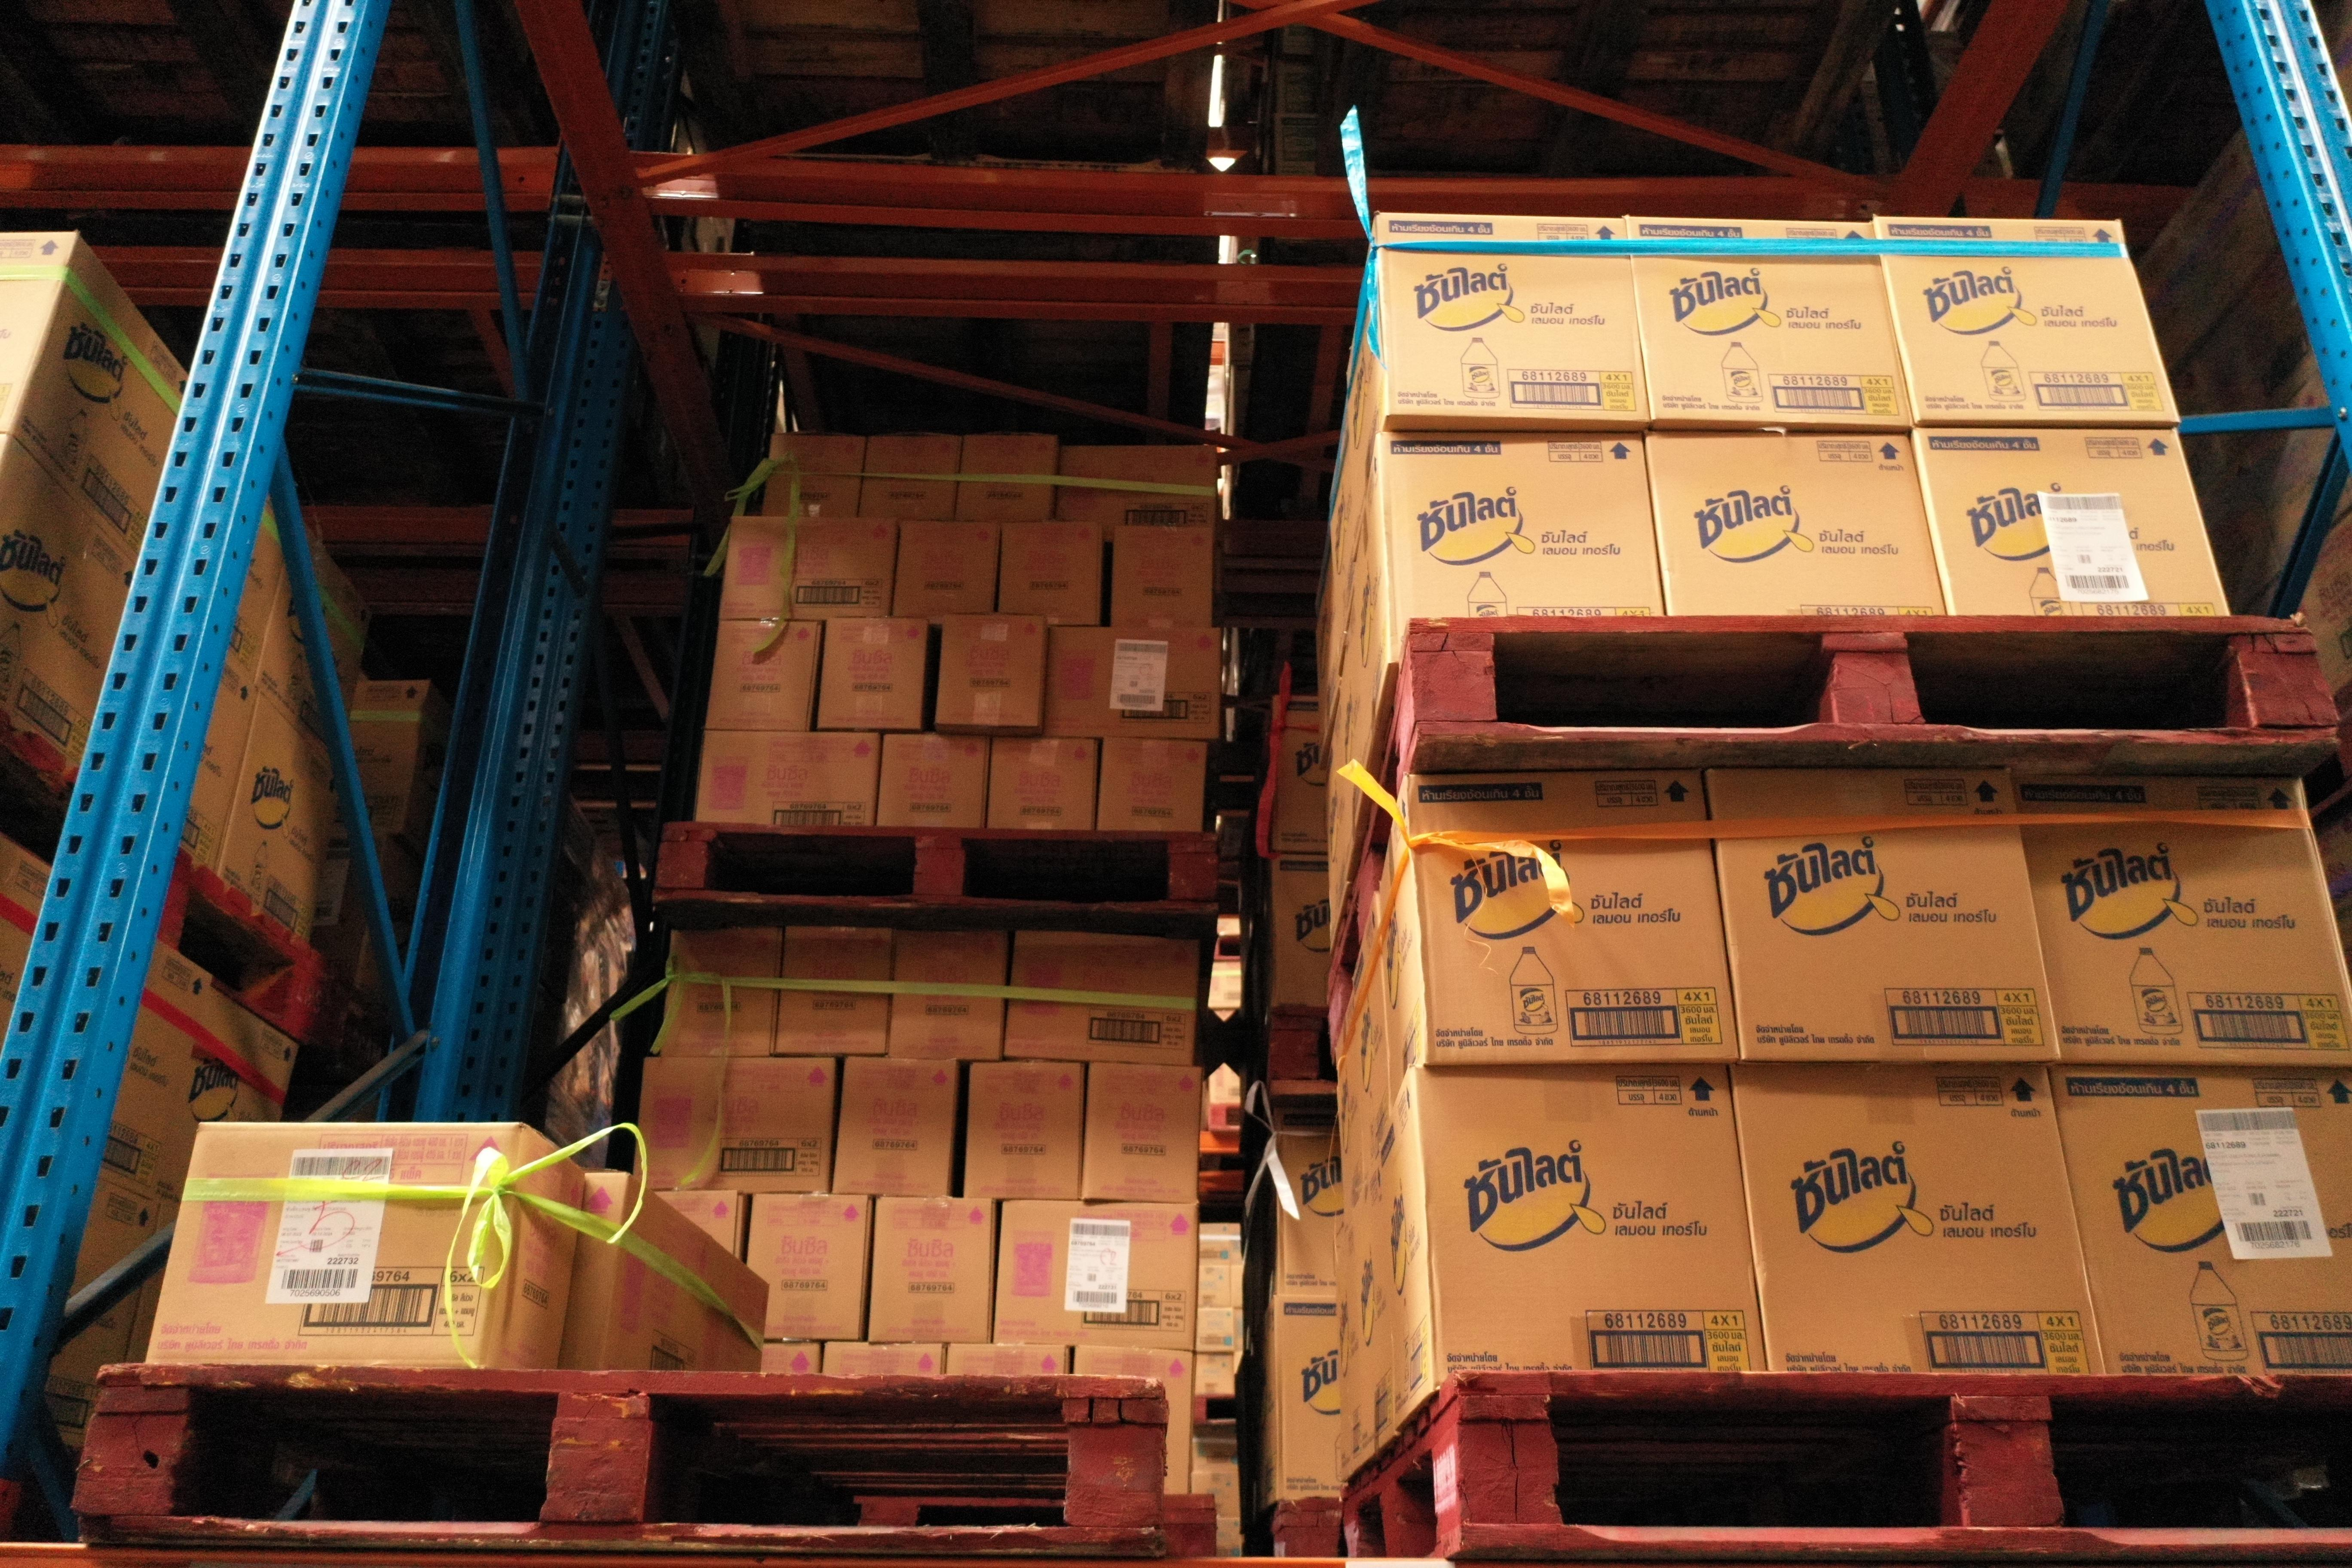-: (1725, 1059, 2110, 1377), (1414, 1064, 1771, 1391), (1699, 765, 2058, 1057), (1403, 766, 1743, 1073), (2014, 773, 2352, 1066), (2044, 1064, 2352, 1379), (147, 1120, 521, 1374), (1386, 425, 1666, 658), (1874, 215, 2180, 423), (1624, 213, 1913, 427), (1911, 423, 2233, 614), (1377, 210, 1650, 423), (1643, 427, 1949, 614)
box: (992, 1199, 1197, 1358), (633, 1055, 836, 1193), (1004, 933, 1195, 1064), (866, 1193, 997, 1344), (1046, 623, 1218, 735), (695, 728, 882, 829), (747, 1193, 875, 1340), (1071, 1344, 1193, 1494), (962, 1053, 1083, 1204), (723, 516, 896, 616), (831, 1057, 954, 1197), (1083, 1057, 1199, 1204), (660, 929, 782, 1057), (772, 929, 892, 1059), (887, 929, 1004, 1059), (1053, 444, 1214, 534), (814, 612, 924, 733), (707, 619, 822, 733), (936, 616, 1046, 728), (873, 731, 990, 829), (889, 520, 1001, 621), (996, 520, 1102, 625), (1095, 735, 1206, 836), (982, 735, 1095, 833), (1111, 530, 1213, 630), (857, 432, 961, 527), (950, 439, 1059, 525), (763, 434, 866, 520), (647, 1190, 737, 1263), (945, 1344, 1067, 1386), (821, 1340, 943, 1379), (763, 1337, 826, 1382)
